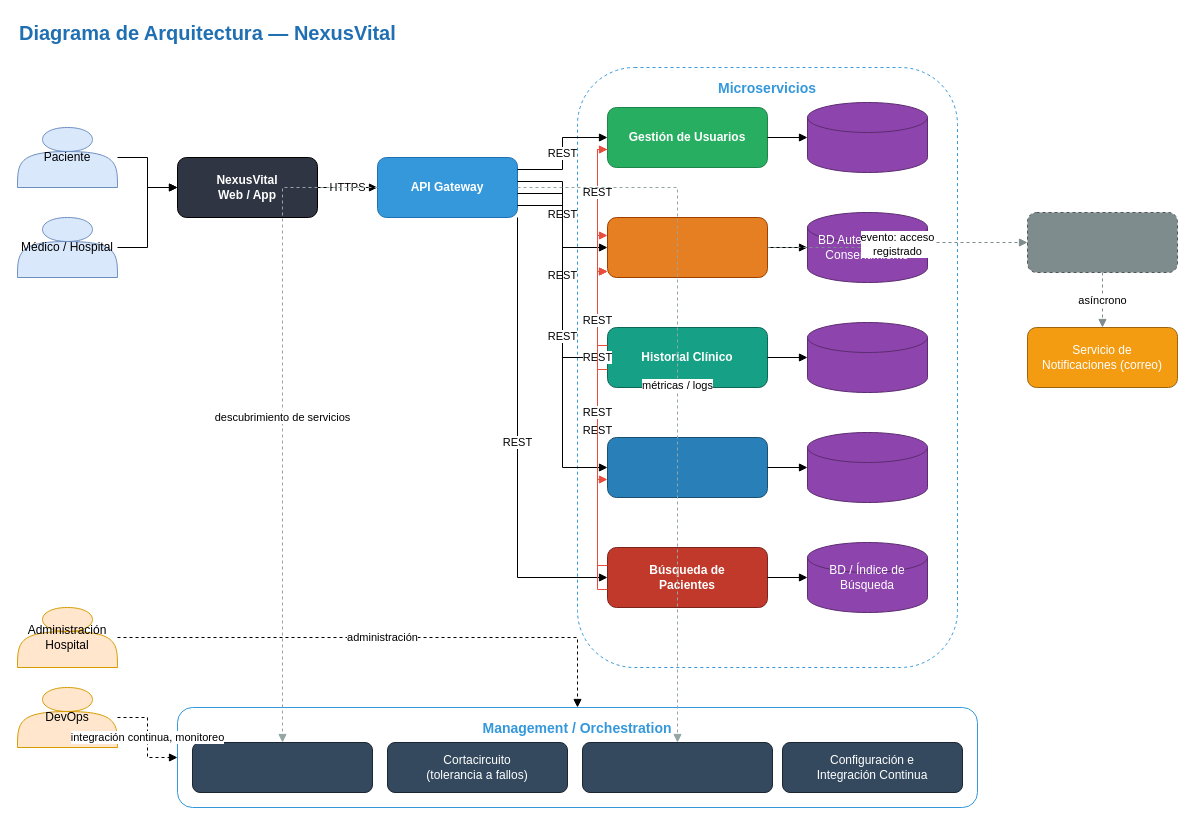
The diagram is 1195 pixels wide and 825 high, and some of its shapes have lost their labels. The shapes that lost their labels are listed below. From the top down, each one's centre as x and y in pixels, then its label:
At (867,137): "BD Usuarios".
At (687,247): "Autenticación y Consentimiento".
At (1102,242): "Cola de Eventos (asíncrona)".
At (867,357): "BD Historial / Referencias".
At (687,467): "Documentos y Exámenes".
At (867,467): "BD / Almacenamiento Archivos Clínicos".
At (282,767): "Registro de Servicios (descubrimiento de servicios)".
At (677,767): "Monitoreo / Observabilidad (logs, métricas)".
